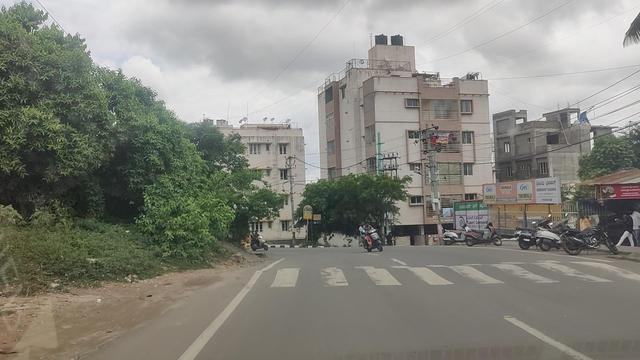SpeedBump: (270, 254, 612, 283)
